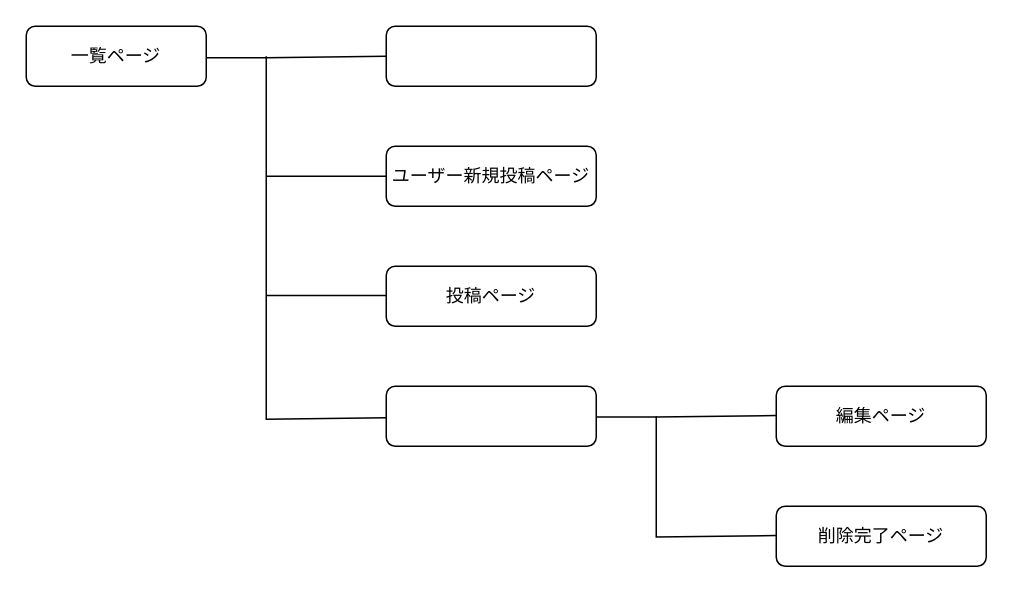
Image size: 1013x593. Some labels were removed from this diagram. The shapes that lost their labels are listed below. From the top down, each one's centre as x and y in pixels, then its label:
(x=490, y=55): ユーザーログインページ
(x=490, y=415): 詳細ページ
